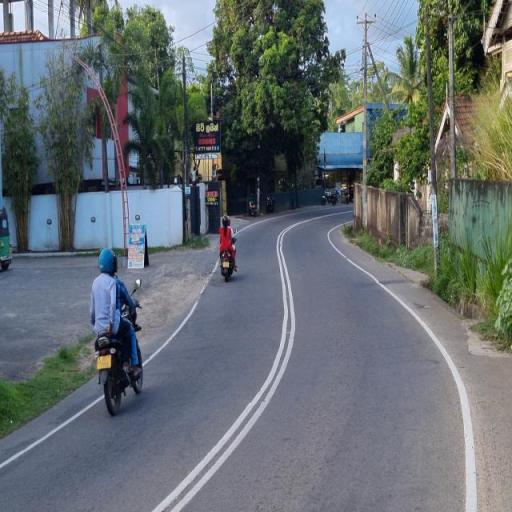double_white_line: (147, 220, 299, 510), (0, 393, 102, 472)
